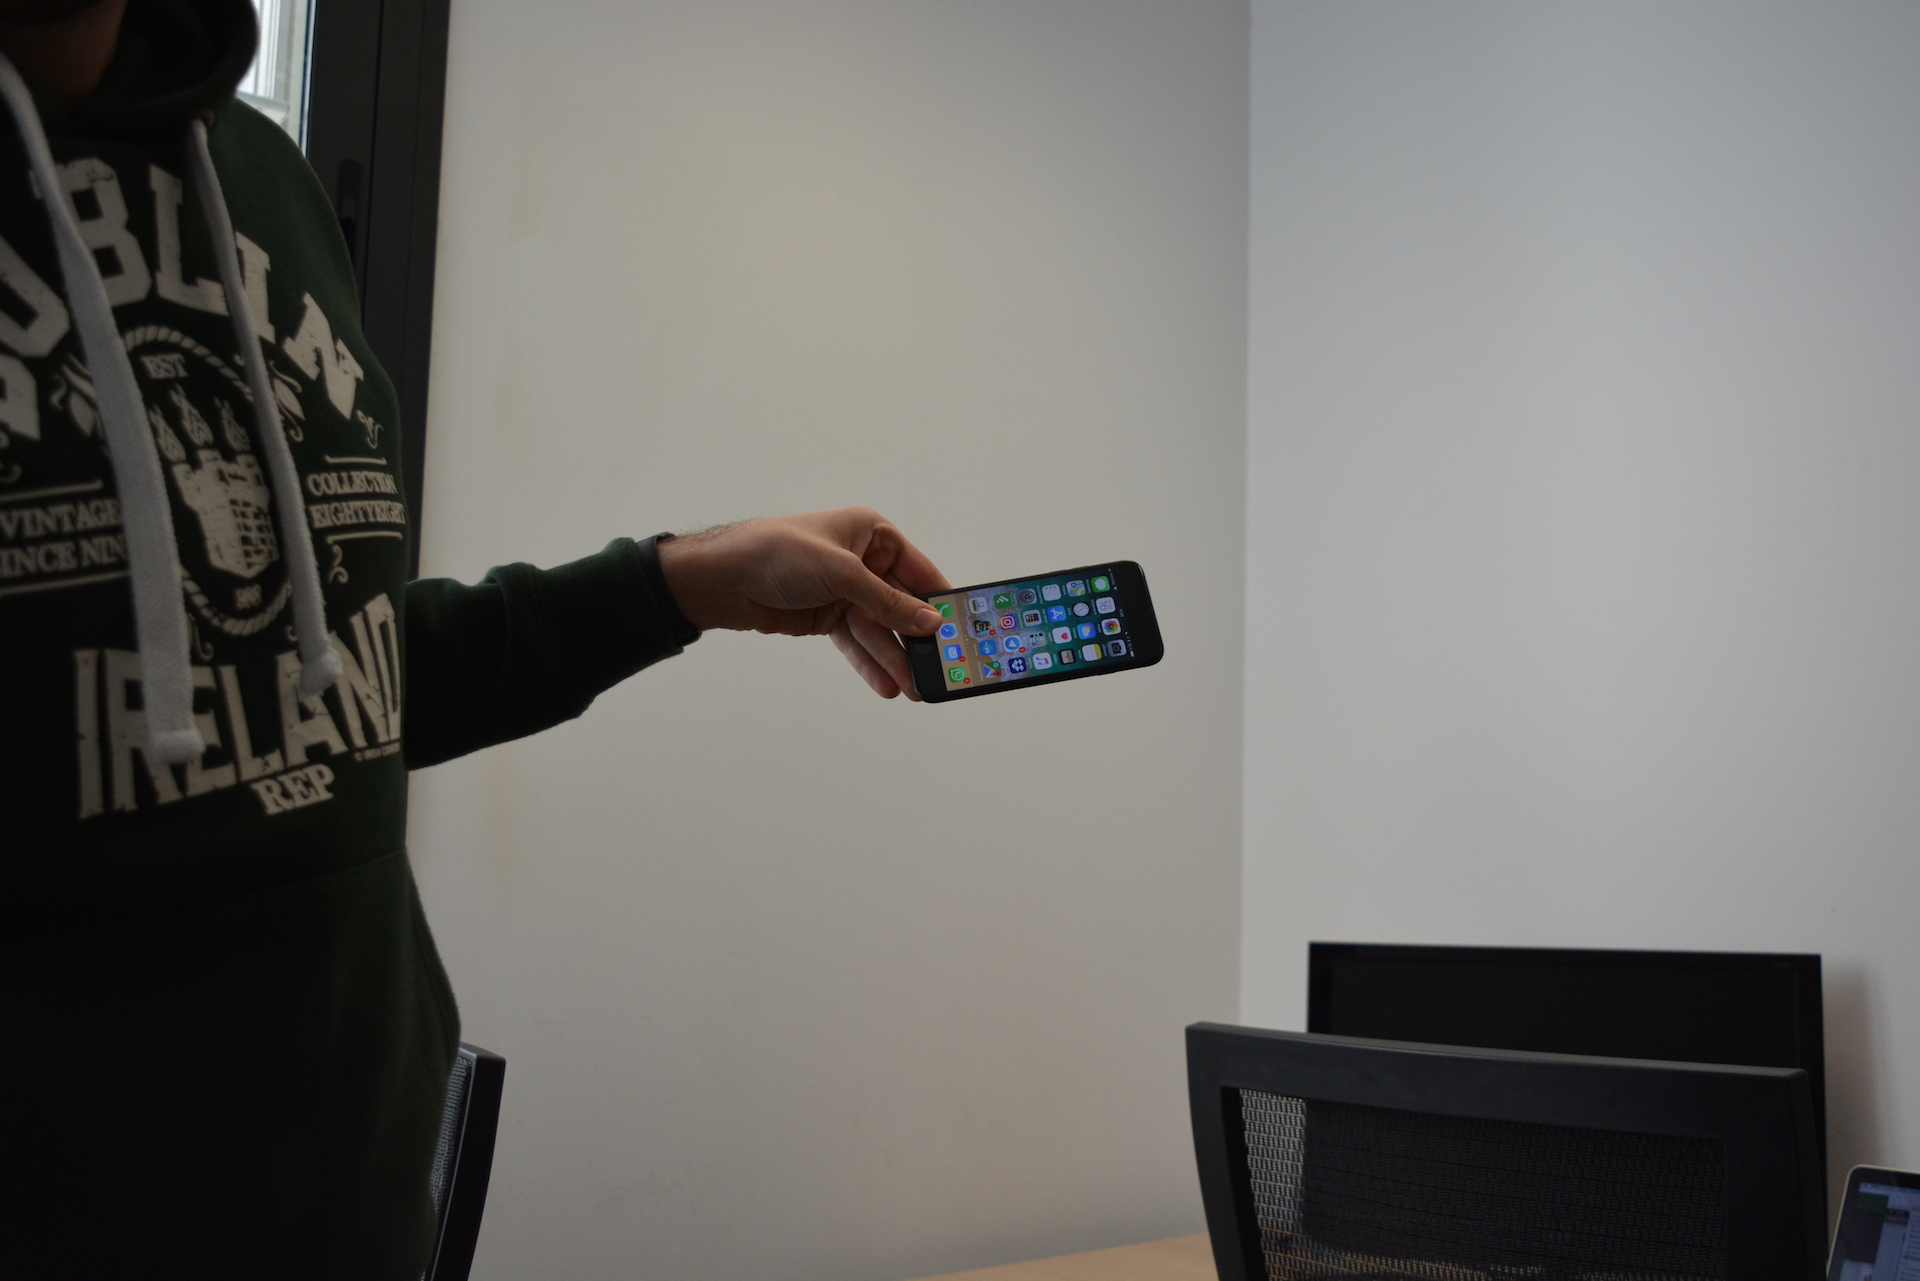smartphone: (901, 558, 1168, 708)
